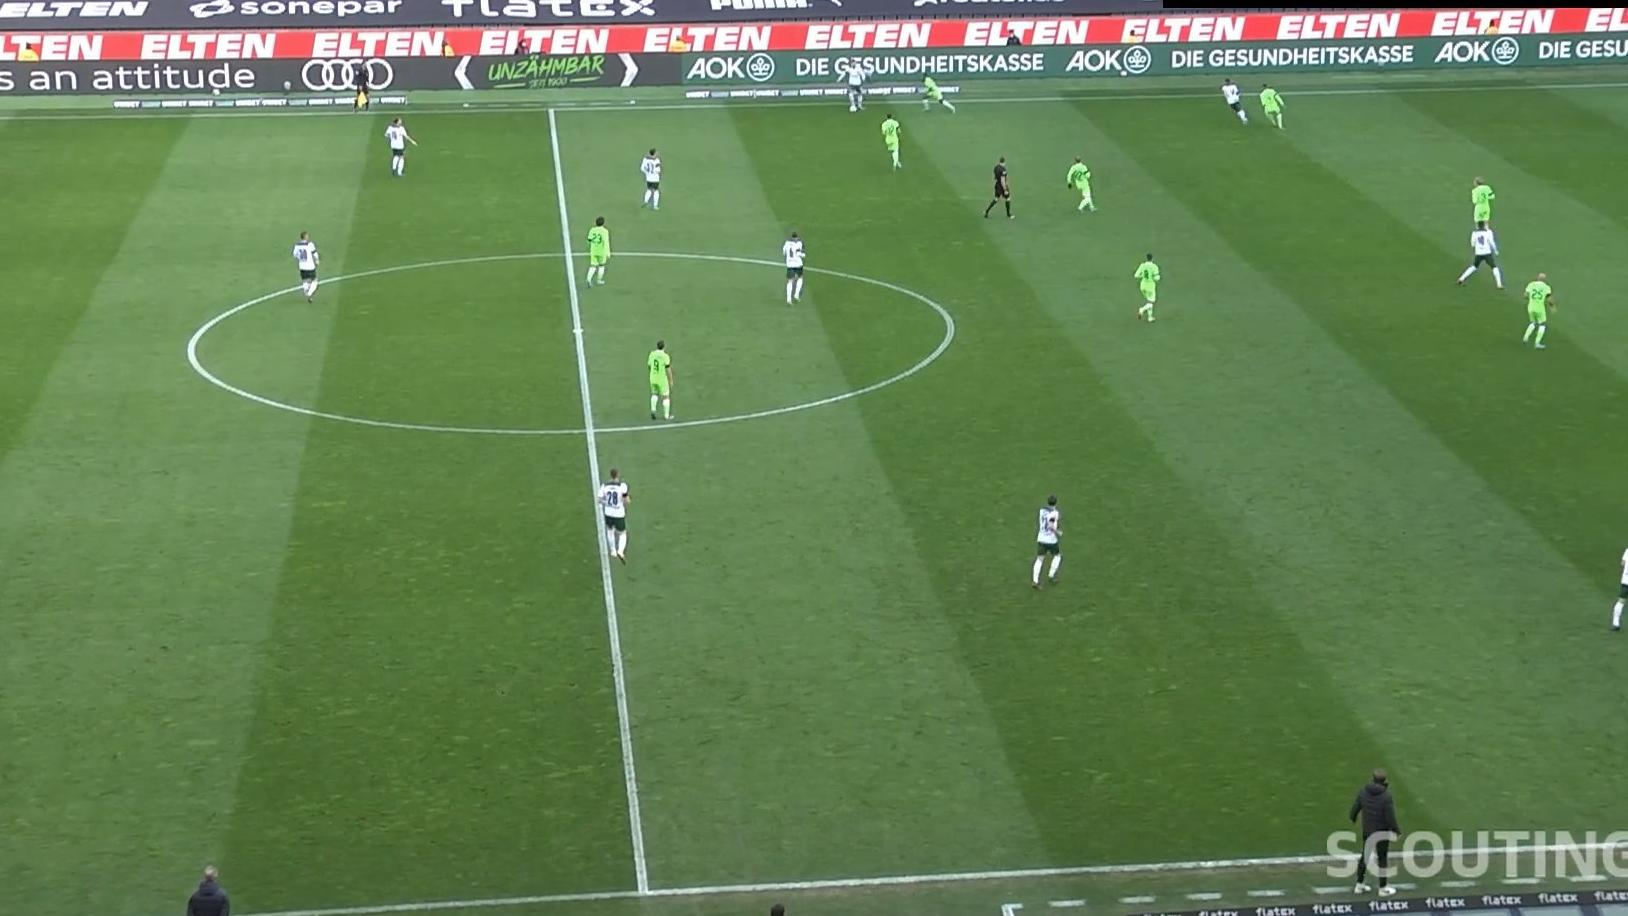ball: (848, 103, 858, 114)
